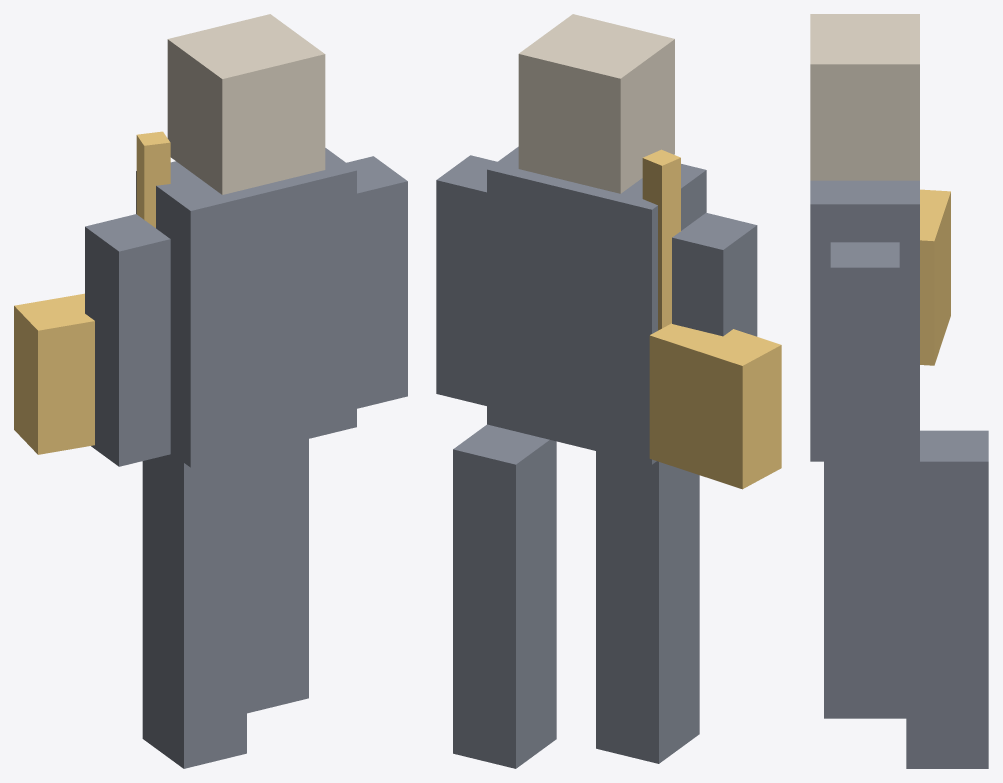
File: npc_schritt.glb
The picture shows the model from 3 angles, left to right: view 1: azimuth 30°, elevation 25°; view 2: azimuth 150°, elevation 25°; view 3: azimuth 270°, elevation 25°; orthographic projection.
Parts seen in each view (by area): view 1: rumpf, bein_links, kopf, arm_links, bein_rechts, arm_rechts, umhaengetasche, riemen; view 2: rumpf, bein_rechts, bein_links, kopf, umhaengetasche, arm_rechts, arm_links, riemen; view 3: bein_rechts, bein_links, kopf, arm_rechts, rumpf, umhaengetasche.
Boxes of the visible parts, bbox=[...] form: rumpf: bbox=[136, 148, 356, 467]; bein_links: bbox=[142, 453, 246, 768]; kopf: bbox=[167, 14, 325, 194]; arm_links: bbox=[85, 214, 170, 466]; bein_rechts: bbox=[247, 439, 308, 713]; arm_rechts: bbox=[346, 156, 407, 408]; umhaengetasche: bbox=[14, 293, 94, 454]; riemen: bbox=[136, 131, 170, 227]; rumpf: bbox=[487, 146, 706, 464]; bein_rechts: bbox=[453, 424, 556, 768]; bein_links: bbox=[596, 451, 699, 763]; kopf: bbox=[518, 14, 674, 193]; umhaengetasche: bbox=[649, 323, 781, 489]; arm_rechts: bbox=[436, 155, 497, 405]; arm_links: bbox=[672, 212, 757, 336]; riemen: bbox=[642, 149, 680, 330]; bein_rechts: bbox=[906, 430, 988, 768]; bein_links: bbox=[824, 461, 906, 718]; kopf: bbox=[810, 14, 919, 180]; arm_rechts: bbox=[830, 242, 899, 483]; rumpf: bbox=[810, 180, 919, 461]; umhaengetasche: bbox=[920, 189, 950, 365].
Bounding box in the file's own units: 0.8635 × 1.66 × 0.39.
